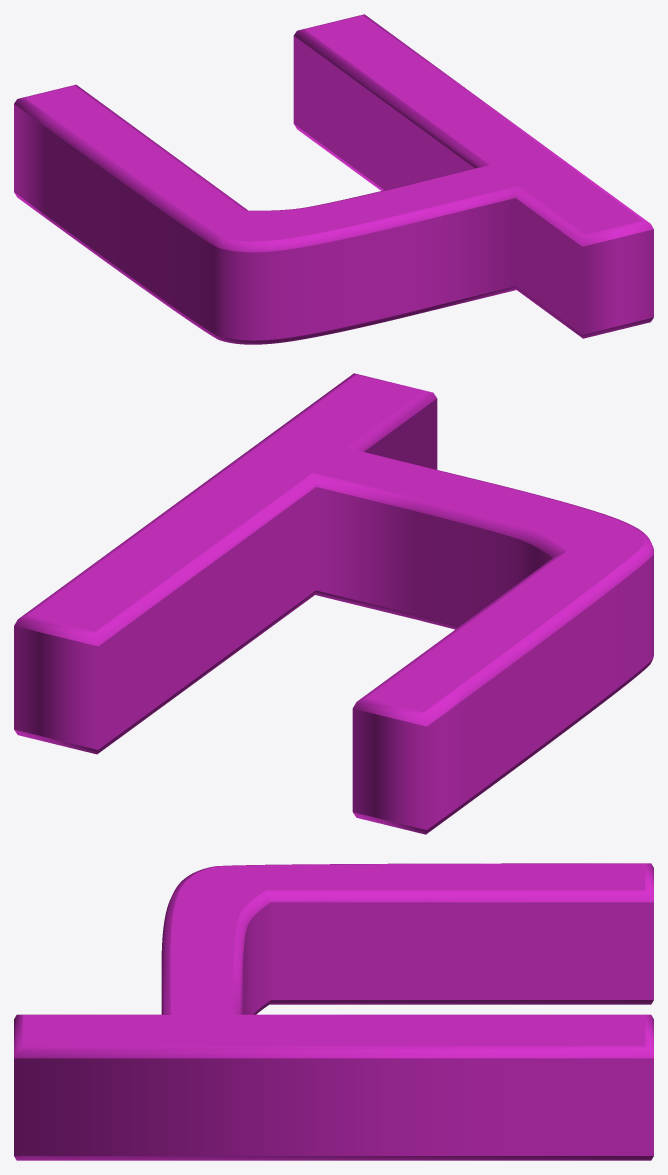
File: Letter_h_CoolFont.fbx
3 renders of one model, top to bottom at view 1: azimuth 30°, elevation 25°; view 2: azimuth 150°, elevation 25°; view 3: azimuth 270°, elevation 25°, orthographic. The views are drawn at different scales.
Parts seen in each view (by area): view 1: Letter_h; view 2: Letter_h; view 3: Letter_h.
Part boxes in pixels (left/top/right/bottom): Letter_h: left=14, top=14, right=653, bottom=344; Letter_h: left=14, top=373, right=653, bottom=834; Letter_h: left=14, top=863, right=653, bottom=1160.
Bounding box in the file's own units: 0.5007 × 0.14 × 0.712.
